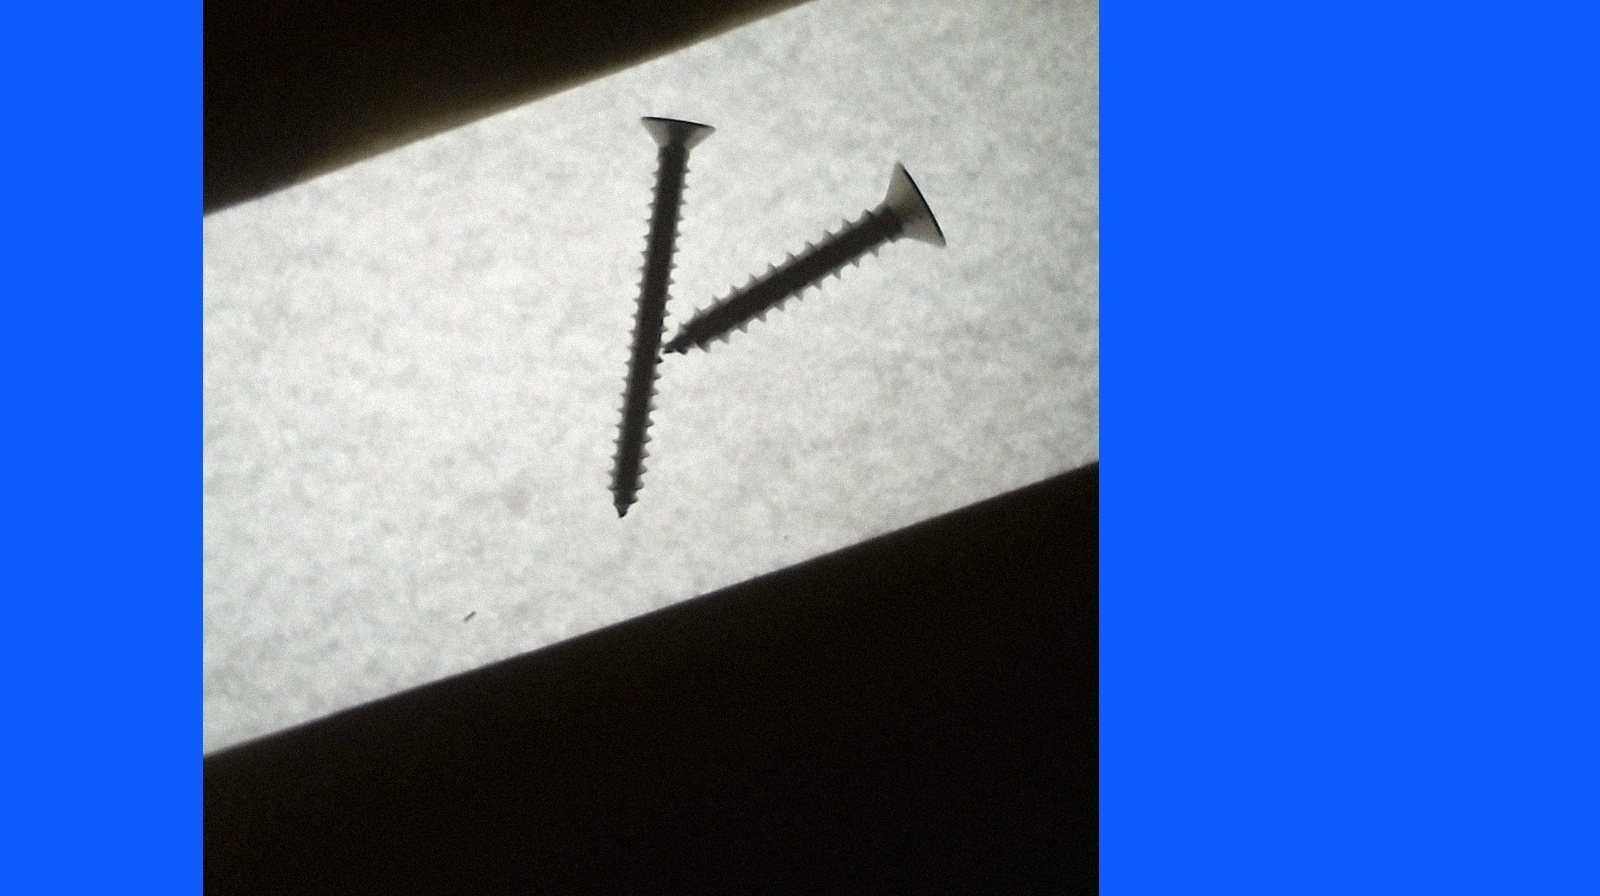S001: (662, 153, 949, 357)
S002: (603, 112, 719, 516)
